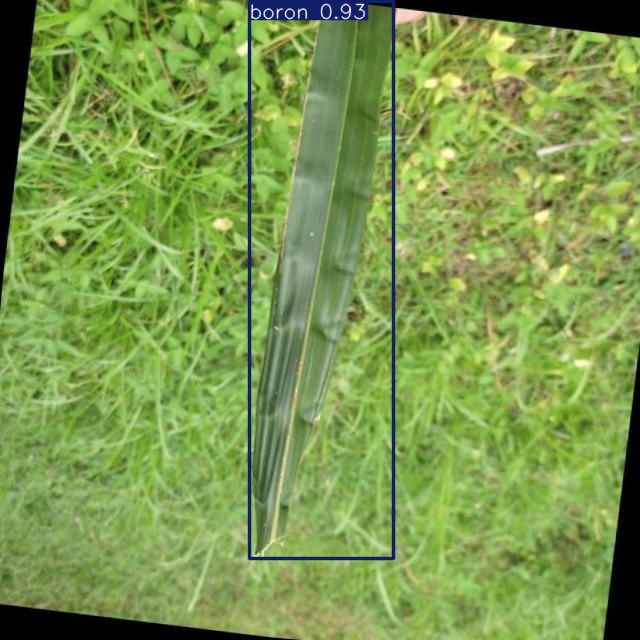nitrogen: (250, 2, 394, 559)
